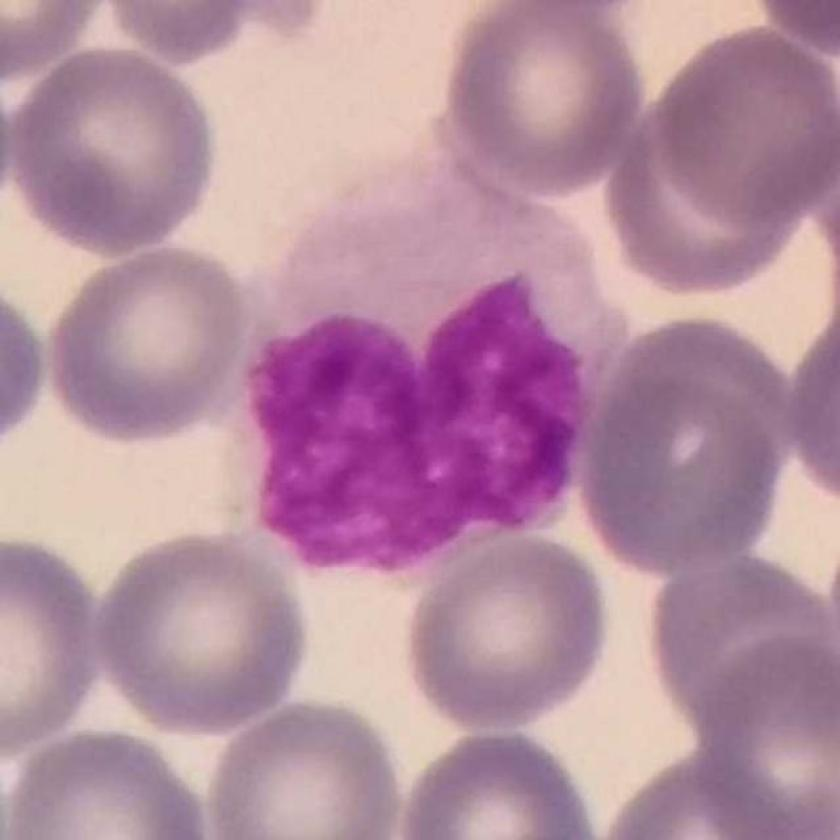monocyte: (225, 102, 635, 600)
